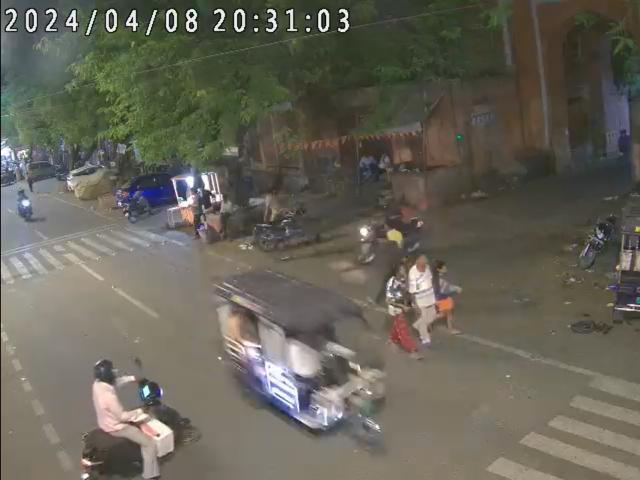auto: (213, 268, 390, 444)
helmet: (93, 357, 116, 376)
motorbike: (578, 212, 616, 270), (122, 188, 152, 222)
person: (387, 259, 415, 354), (410, 253, 438, 346), (430, 260, 460, 332), (188, 186, 202, 234)
scooty-rider: (78, 356, 185, 478), (14, 188, 34, 221)
